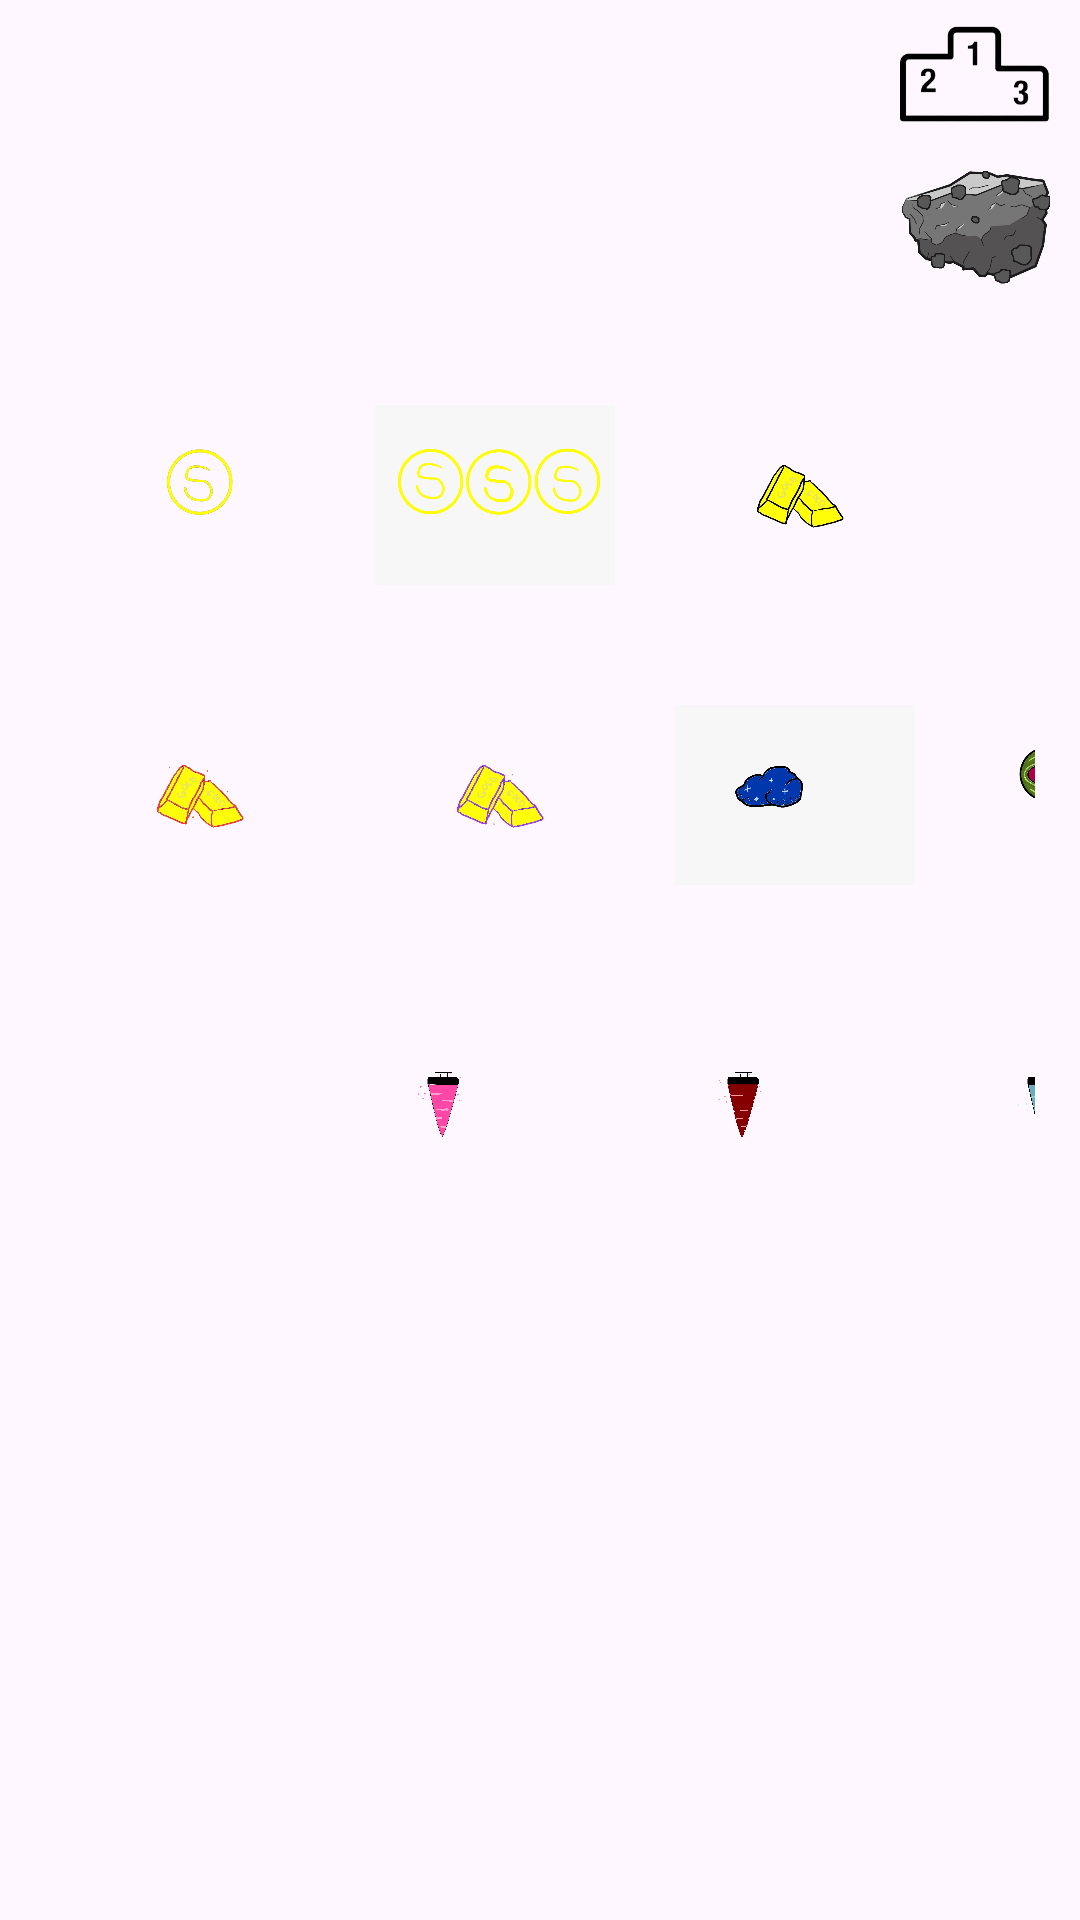

Named icons in this screenshot (1080x1920) and their bounding boxes, [x1, y1, x2, y2]:
leaderboard: [900, 26, 1049, 122]
minerio: [902, 171, 1050, 284]
